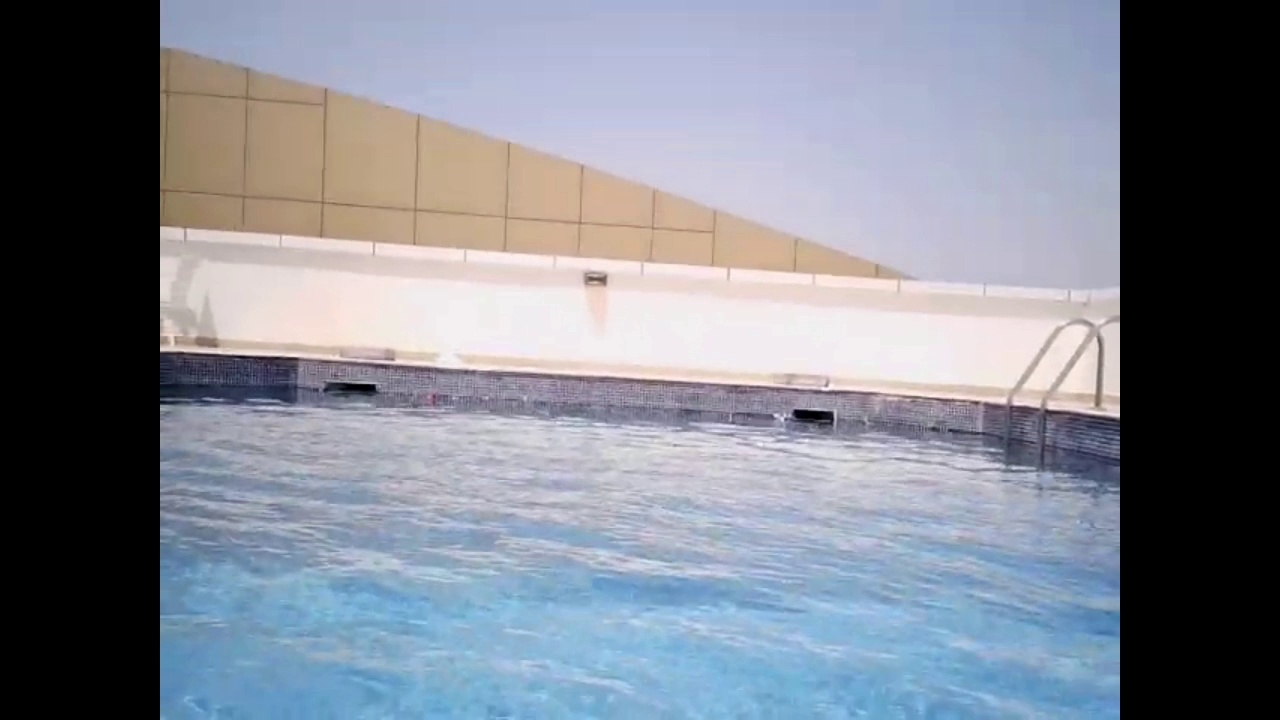debris: (767, 410, 791, 427), (420, 387, 440, 407)
